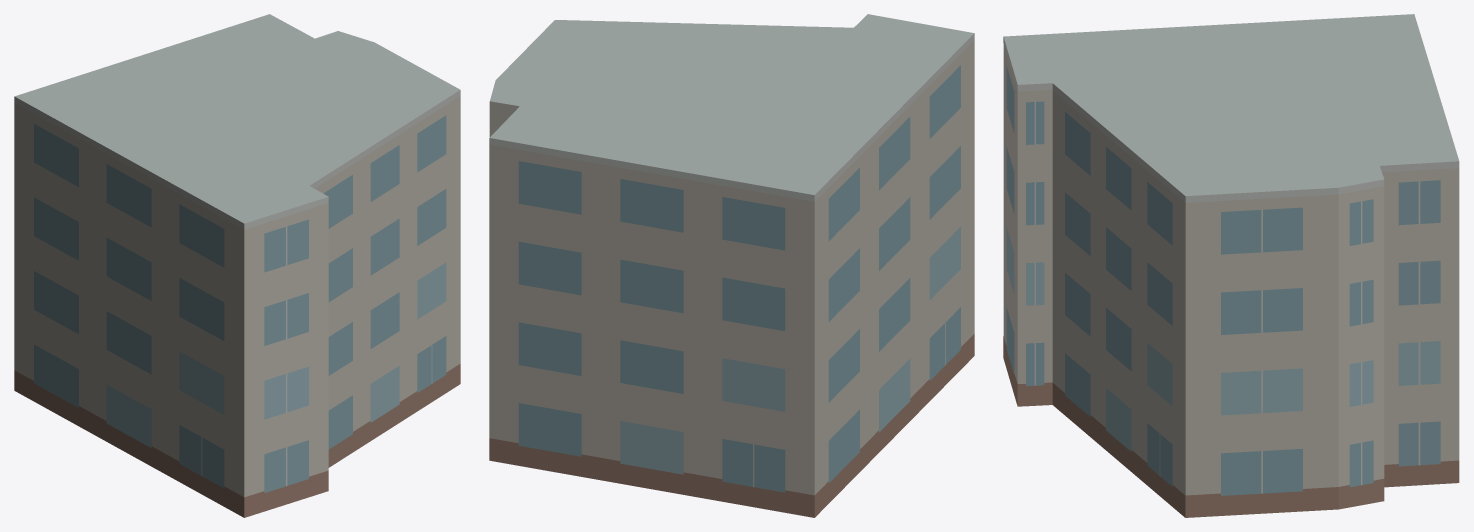
The model's file is survey-upis-32898965.glb.
3 renders of one model, left to right at view 1: azimuth 30°, elevation 25°; view 2: azimuth 150°, elevation 25°; view 3: azimuth 270°, elevation 25°, orthographic. The views are drawn at different scales.
Visible parts, largest first — view 1: survey-upis-32898965.tmp; view 2: survey-upis-32898965.tmp; view 3: survey-upis-32898965.tmp.
Part boxes in pixels (box(x1,y1,x2,y2)): survey-upis-32898965.tmp: box(14, 14, 460, 517); survey-upis-32898965.tmp: box(489, 14, 974, 517); survey-upis-32898965.tmp: box(1003, 14, 1459, 517).
Bounding box in the file's own units: 14.22 × 11.7 × 15.04.
